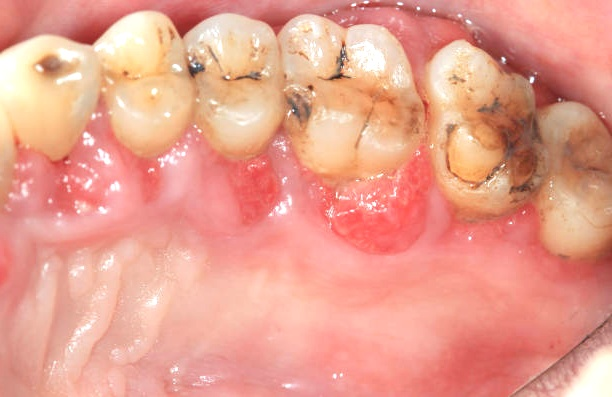Gingivitis: (320, 148, 432, 255), (225, 151, 285, 225), (44, 158, 93, 219), (490, 206, 544, 244), (132, 159, 164, 204)
